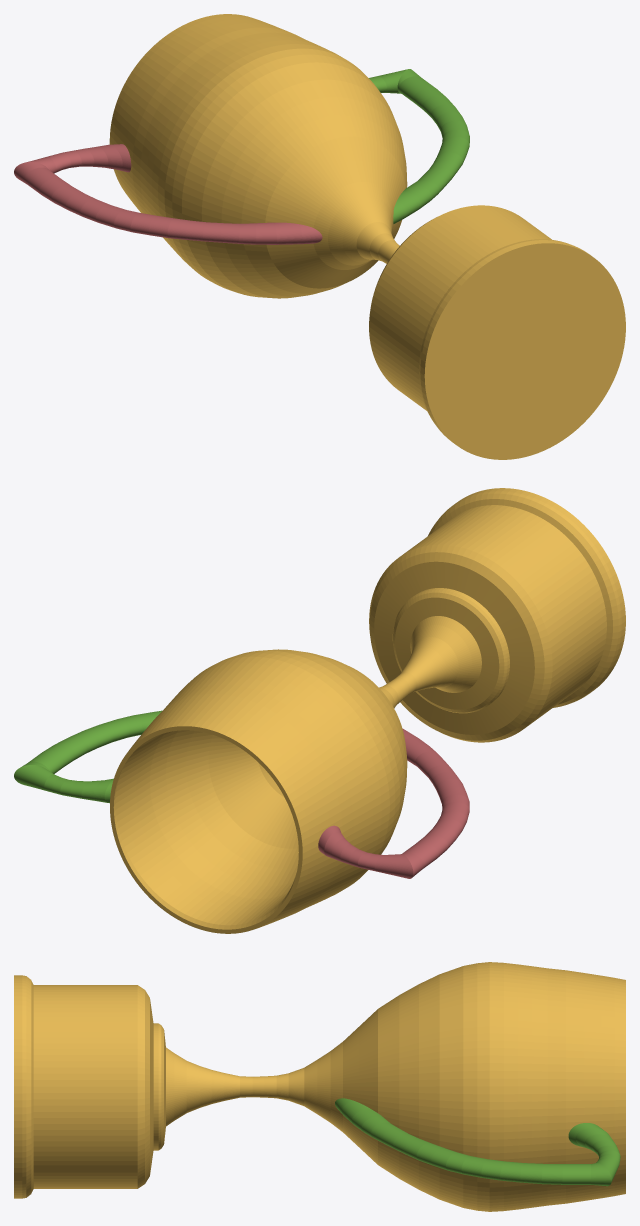
The model's file is trophy_fixed.fbx.
The picture shows the model from 3 angles, top to bottom: view 1: azimuth 30°, elevation 25°; view 2: azimuth 150°, elevation 25°; view 3: azimuth 270°, elevation 25°; orthographic projection. The views are drawn at different scales.
Parts seen in each view (by area): view 1: Cylinder; view 2: Cylinder; view 3: Cylinder.
Boxes of the visible parts, bbox=[...] form: Cylinder: bbox=[14, 14, 625, 459]; Cylinder: bbox=[14, 488, 625, 933]; Cylinder: bbox=[14, 962, 625, 1211].
Bounding box in the file's own units: 316 × 179 × 437.
